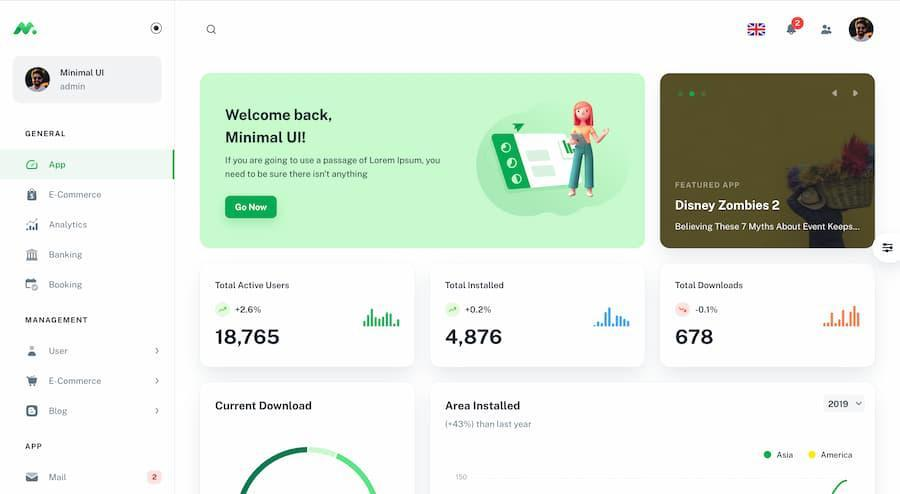button: (226, 197, 277, 219)
icon: (745, 19, 769, 41), (786, 18, 807, 38), (204, 22, 223, 38), (819, 23, 836, 40), (25, 187, 40, 205), (25, 277, 41, 293), (25, 217, 40, 234), (26, 374, 41, 390), (150, 22, 165, 37), (26, 248, 40, 264), (25, 159, 41, 172), (26, 472, 42, 484), (880, 243, 896, 255), (27, 405, 39, 419), (27, 344, 38, 359)
label: (48, 190, 105, 201), (48, 377, 103, 386), (48, 219, 88, 231), (49, 249, 84, 260), (47, 281, 85, 291), (49, 404, 69, 419), (48, 160, 68, 173), (48, 347, 71, 357), (49, 472, 69, 483)
